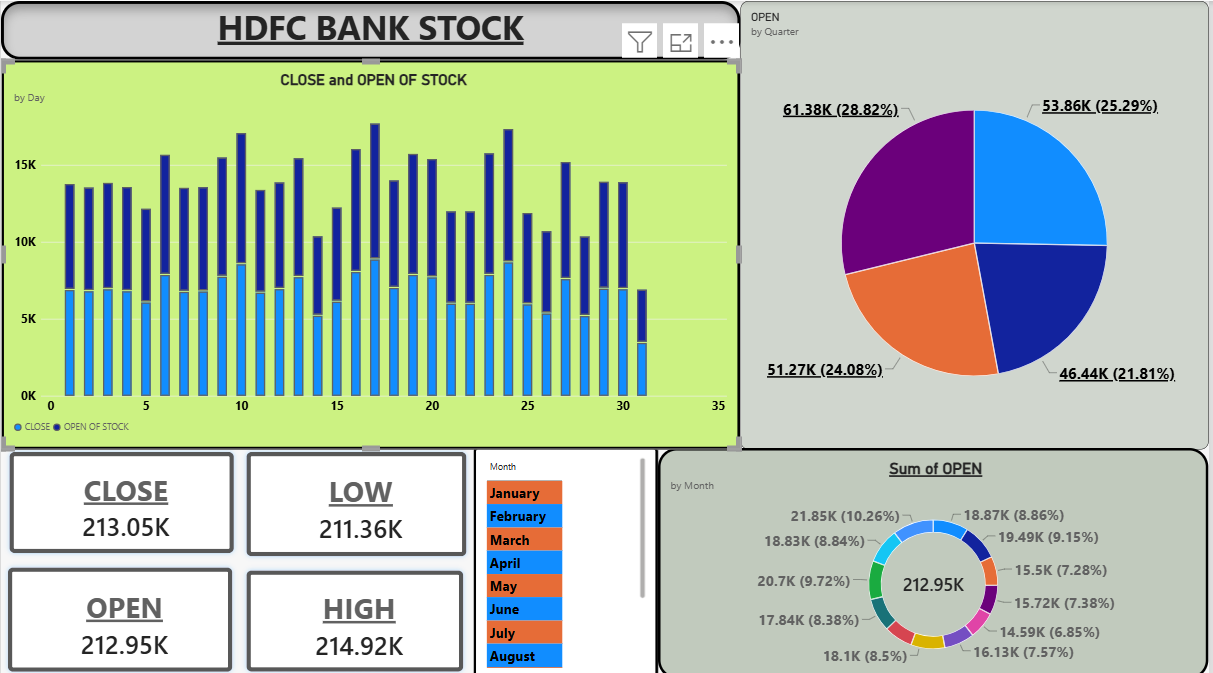

The dashboard page shown, as its layout file describes it:
{"tool":"powerbi","page":{"name":"HDFC","canvas":[1920,1080],"ordinal":1},"visuals":[{"type":"columnChart","fields":{"Category":["Quote-Equity-HDFCBANK-EQ-14-09-2025-14-09-2026.DATE.Variation.Date Hierarchy.Day"],"Y":["Sum(HDFC.CLOSE)","Sum(HDFC.OPEN)"]},"box":[0,93.1,1176.3,620.3],"z":0},{"type":"pieChart","fields":{"Category":["Quote-Equity-HDFCBANK-EQ-14-09-2025-14-09-2026.DATE.Variation.Date Hierarchy.Quarter"],"Y":["Sum(Quote-Equity-HDFCBANK-EQ-14-09-2025-14-09-2026.OPEN)"]},"box":[1176.3,0,744.4,713.4],"z":1},{"type":"tableEx","fields":{"Values":["Quote-Equity-HDFCBANK-EQ-14-09-2025-14-09-2026.DATE.Variation.Date Hierarchy.Month"]},"box":[751.6,708.6,293.5,372.2],"z":2},{"type":"cardVisual","fields":{"Data":["Sum(Quote-Equity-HDFCBANK-EQ-14-09-2025-14-09-2026.CLOSE)"]},"box":[2.4,706.2,379.4,183.7],"z":3},{"type":"cardVisual","fields":{"Data":["Sum(Quote-Equity-HDFCBANK-EQ-14-09-2025-14-09-2026.OPEN)"]},"box":[0,889.9,379.4,188.5],"z":4},{"type":"cardVisual","fields":{"Data":["Sum(Quote-Equity-HDFCBANK-EQ-14-09-2025-14-09-2026.HIGH)"]},"box":[379.4,894.7,367.4,183.7],"z":5},{"type":"cardVisual","fields":{"Data":["Sum(Quote-Equity-HDFCBANK-EQ-14-09-2025-14-09-2026.LOW)"]},"box":[379.4,706.2,372.2,188.5],"z":6},{"type":"donutChart","fields":{"Category":["HDFC.DATE.Variation.Date Hierarchy.Month"],"Y":["Sum(HDFC.OPEN)"]},"box":[1045,711,875.6,367.4],"z":7},{"type":"textbox","box":[0,0,1176.3,93.1],"z":10}]}

Visuals, with their boxes in screenshot pixels (x1, y1, x2, y2), scaled from the page's 1920x1080 canvas onto the 1213x673 screenshot:
columnChart - Quote-Equity-HDFCBANK-EQ-14-09-2025-14-09-2026.DATE.Variation.Date Hierarchy.Day x Sum(HDFC.CLOSE): detection(0, 58, 743, 445)
pieChart - Quote-Equity-HDFCBANK-EQ-14-09-2025-14-09-2026.DATE.Variation.Date Hierarchy.Quarter x Sum(Quote-Equity-HDFCBANK-EQ-14-09-2025-14-09-2026.OPEN): detection(743, 0, 1212, 445)
tableEx - Quote-Equity-HDFCBANK-EQ-14-09-2025-14-09-2026.DATE.Variation.Date Hierarchy.Month: detection(475, 442, 660, 672)
cardVisual - Sum(Quote-Equity-HDFCBANK-EQ-14-09-2025-14-09-2026.CLOSE): detection(2, 440, 241, 555)
cardVisual - Sum(Quote-Equity-HDFCBANK-EQ-14-09-2025-14-09-2026.OPEN): detection(0, 555, 240, 672)
cardVisual - Sum(Quote-Equity-HDFCBANK-EQ-14-09-2025-14-09-2026.HIGH): detection(240, 558, 472, 672)
cardVisual - Sum(Quote-Equity-HDFCBANK-EQ-14-09-2025-14-09-2026.LOW): detection(240, 440, 475, 558)
donutChart - HDFC.DATE.Variation.Date Hierarchy.Month x Sum(HDFC.OPEN): detection(660, 443, 1212, 672)
textbox: detection(0, 0, 743, 58)
